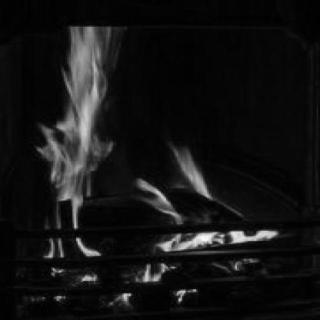Fire: (24, 22, 287, 306)
